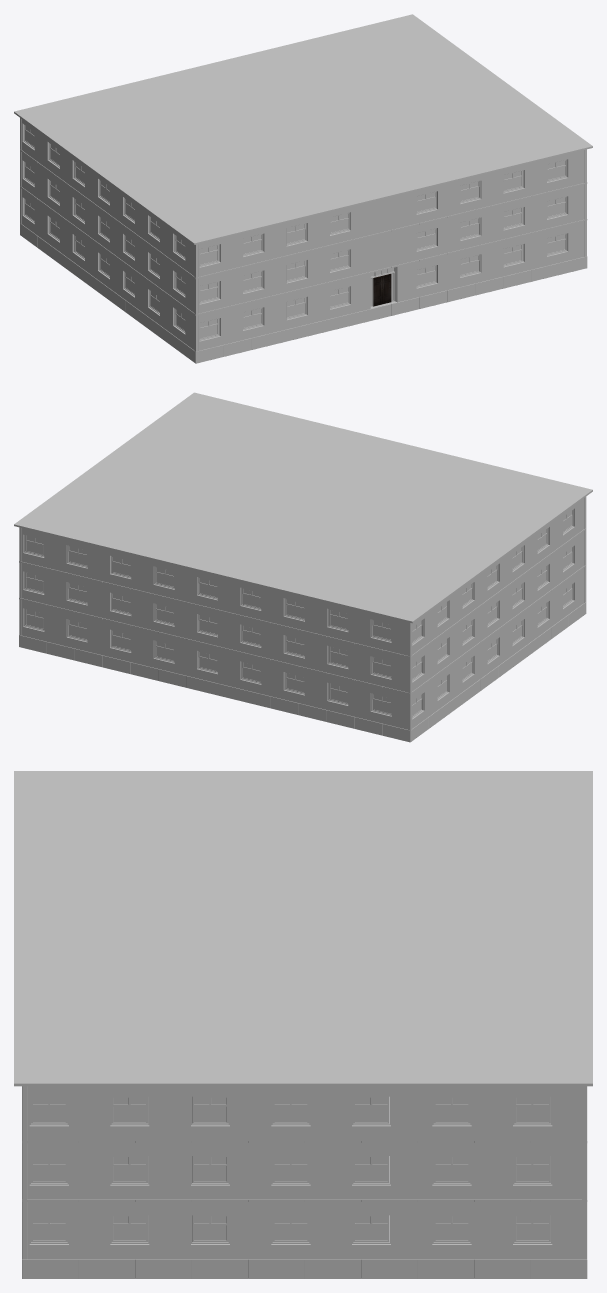
Rendered from Hospital_var02_sm.FBX.
3 views of the same model, one above another, from view 1: azimuth 30°, elevation 25°; view 2: azimuth 150°, elevation 25°; view 3: azimuth 270°, elevation 25° (orthographic). The views are drawn at different scales.
Visible parts, largest first — view 1: Hospital_var02_sm_LOD0; view 2: Hospital_var02_sm_LOD0; view 3: Hospital_var02_sm_LOD0.
Part boxes in pixels (bbox=[...]): Hospital_var02_sm_LOD0: bbox=[14, 14, 592, 363]; Hospital_var02_sm_LOD0: bbox=[14, 392, 592, 742]; Hospital_var02_sm_LOD0: bbox=[14, 771, 592, 1278].
Size of what is drawn, in the model's own units: 3731 by 2921 by 1101.
